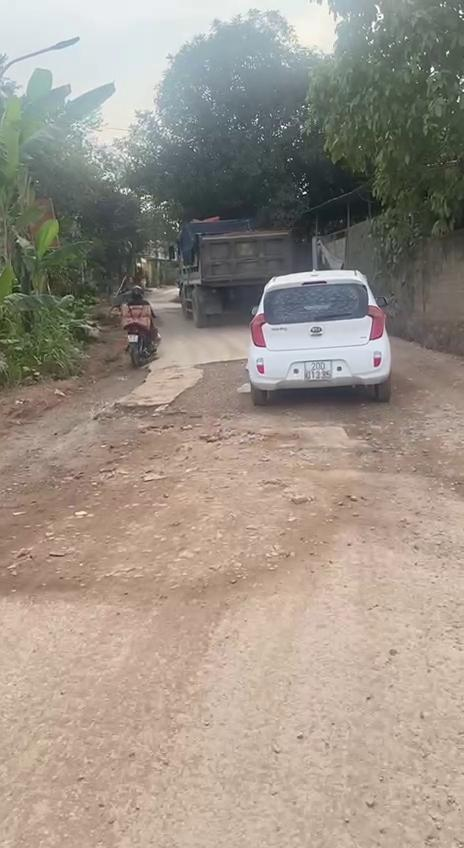pothole: (237, 414, 464, 502), (156, 350, 254, 432), (39, 402, 171, 458)
